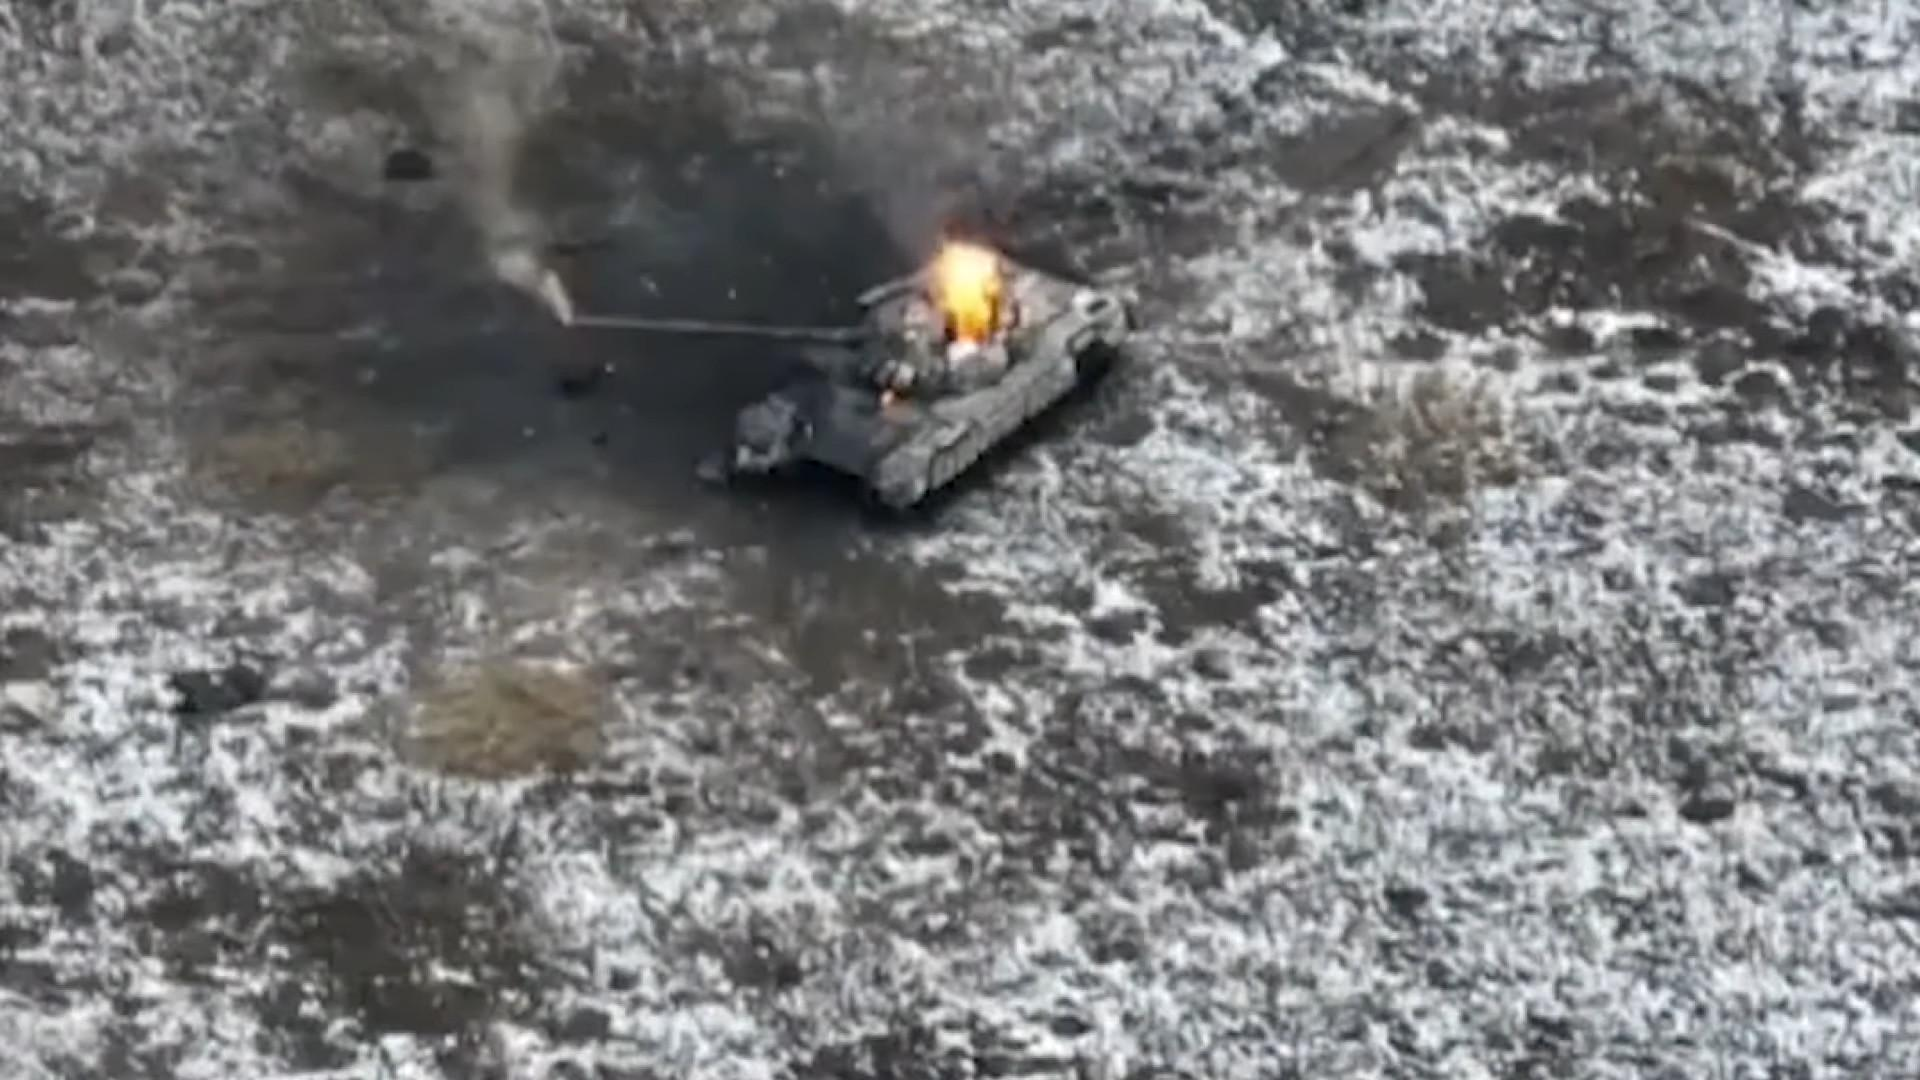tank: (571, 253, 1137, 510)
